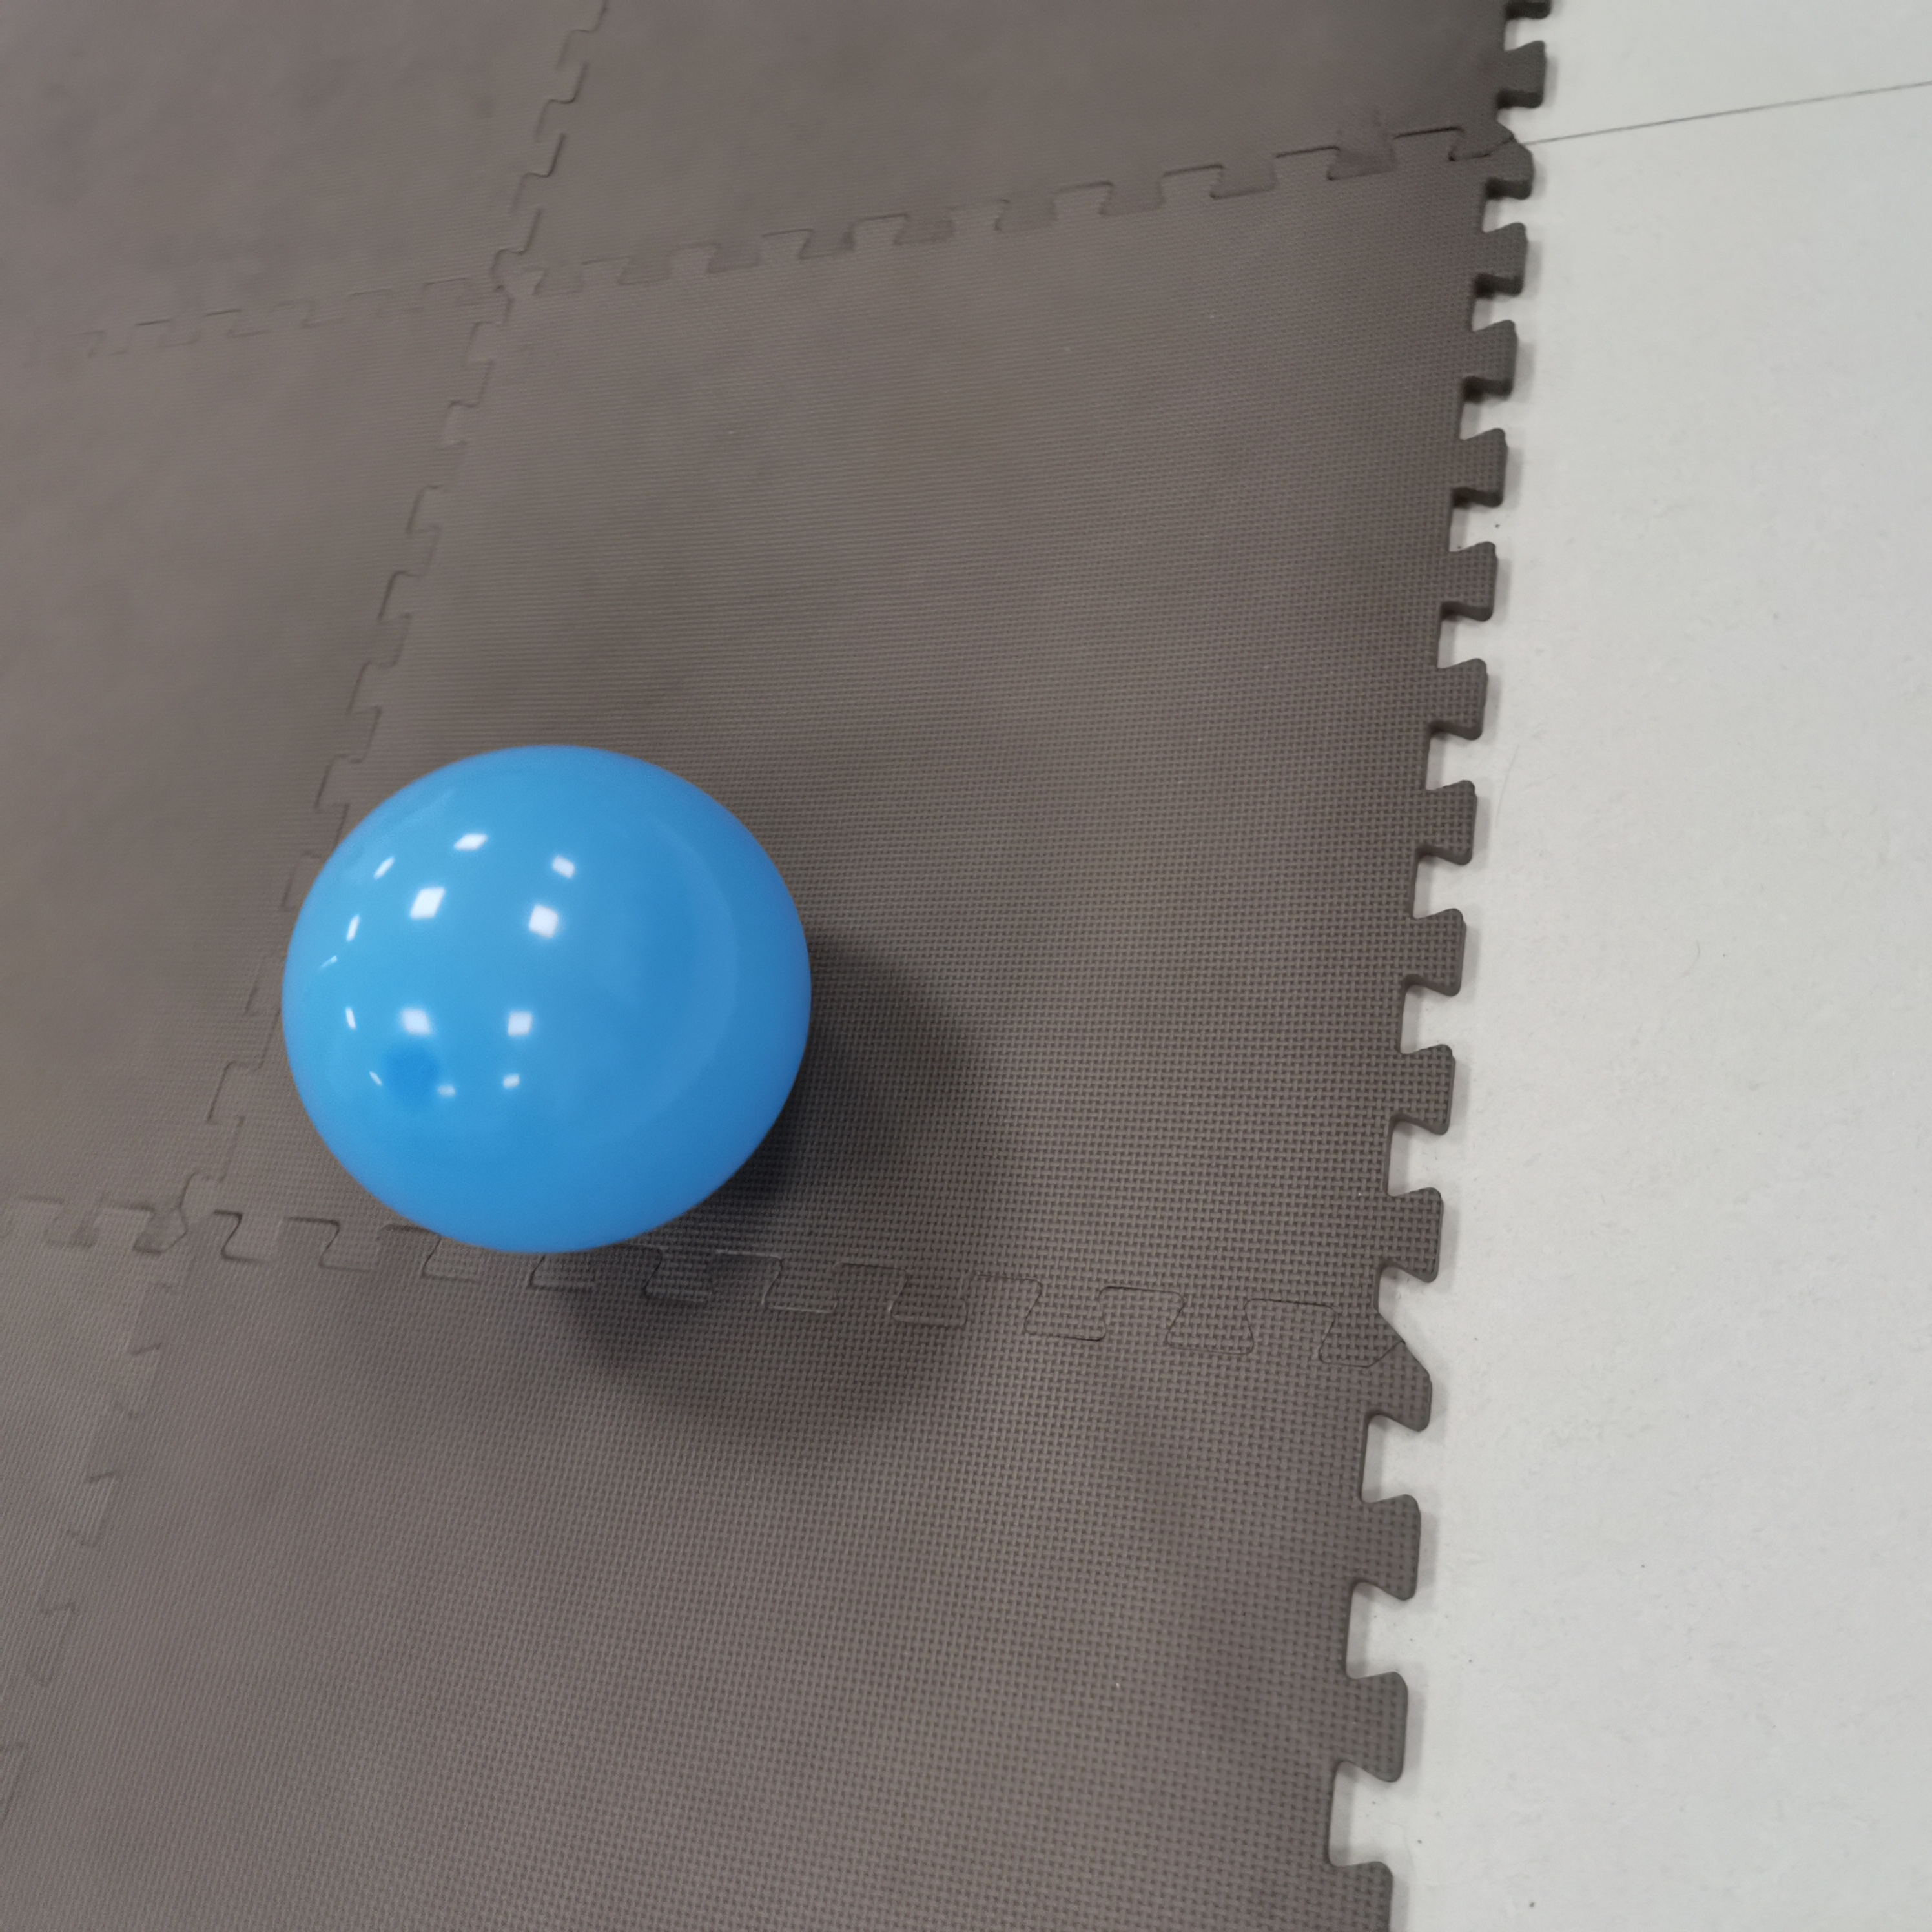balloon: (278, 743, 816, 1263)
